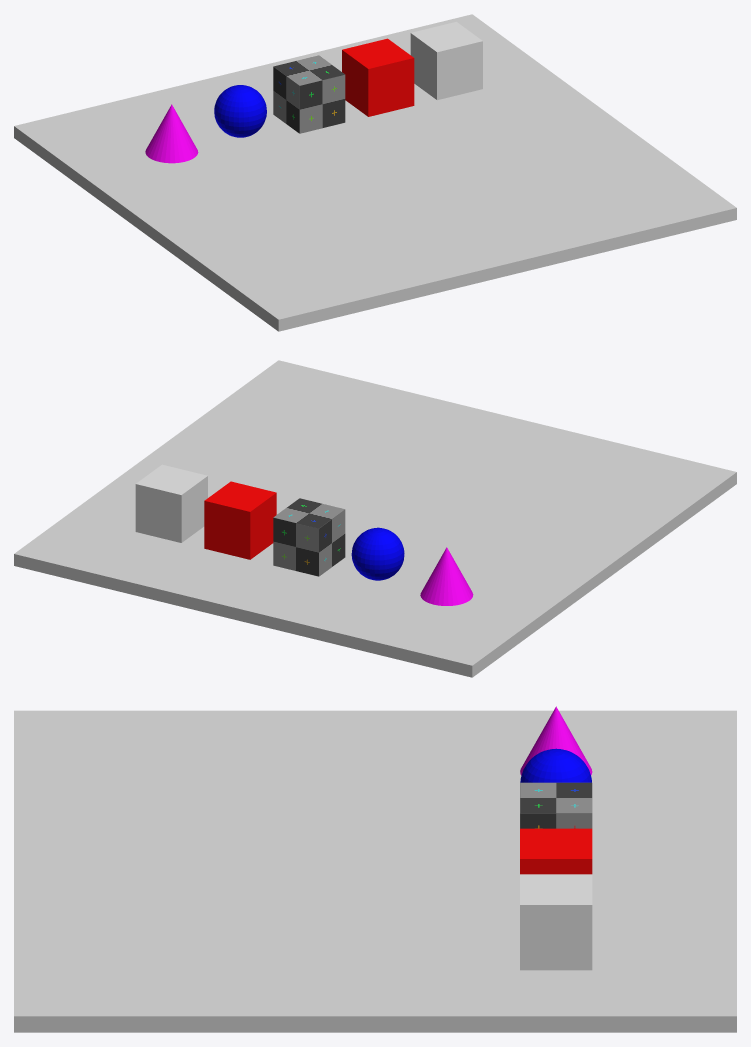
File: render_test_scene.gltf
The picture shows the model from 3 angles, top to bottom: view 1: azimuth 30°, elevation 25°; view 2: azimuth 150°, elevation 25°; view 3: azimuth 270°, elevation 25°; orthographic projection. The views are drawn at different scales.
Parts seen in each view (by area): view 1: ground, cube_texture, cube_material, cube_basic, sphere, cone; view 2: ground, cube_texture, cube_basic, cube_material, sphere, cone; view 3: ground, cube_basic, cube_texture, cube_material, sphere, cone.
Part boxes in pixels (box(x1,y1,x2,y2)): ground: box(14, 14, 736, 331); cube_texture: box(273, 55, 345, 133); cube_material: box(342, 38, 414, 116); cube_basic: box(410, 22, 482, 100); sphere: box(214, 85, 266, 137); cone: box(145, 104, 198, 163); ground: box(14, 360, 736, 677); cube_texture: box(273, 498, 345, 576); cube_basic: box(135, 464, 207, 542); cube_material: box(204, 481, 276, 559); sphere: box(351, 527, 404, 580); cone: box(420, 547, 473, 605); ground: box(14, 710, 736, 1032); cube_basic: box(520, 874, 592, 970); cube_texture: box(520, 782, 592, 828); cube_material: box(520, 828, 592, 874); sphere: box(520, 748, 591, 782); cone: box(520, 706, 592, 775).
Bounding box in the file's own units: 20 × 2.5 × 20.
Materials: 5 (1 with a texture image).
